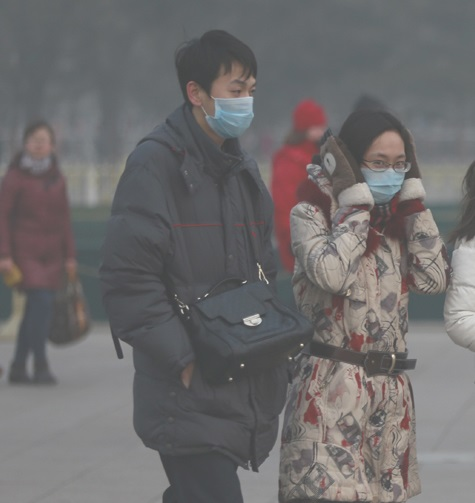person: (96, 31, 281, 503), (286, 94, 435, 503), (6, 114, 95, 393)
